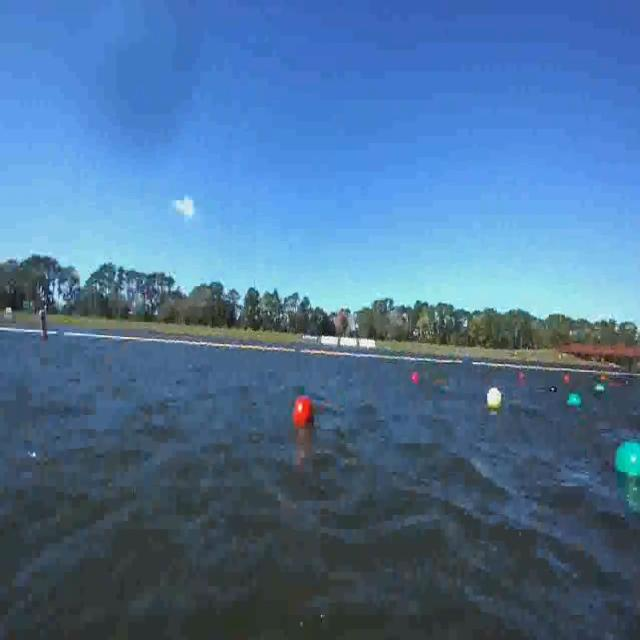black-buoy: (550, 384, 558, 391)
green-buoy: (615, 442, 640, 480), (567, 393, 581, 407)
red-buoy: (294, 398, 312, 431), (412, 369, 421, 384), (565, 374, 570, 382)
yellow-buoy: (483, 386, 502, 412)
